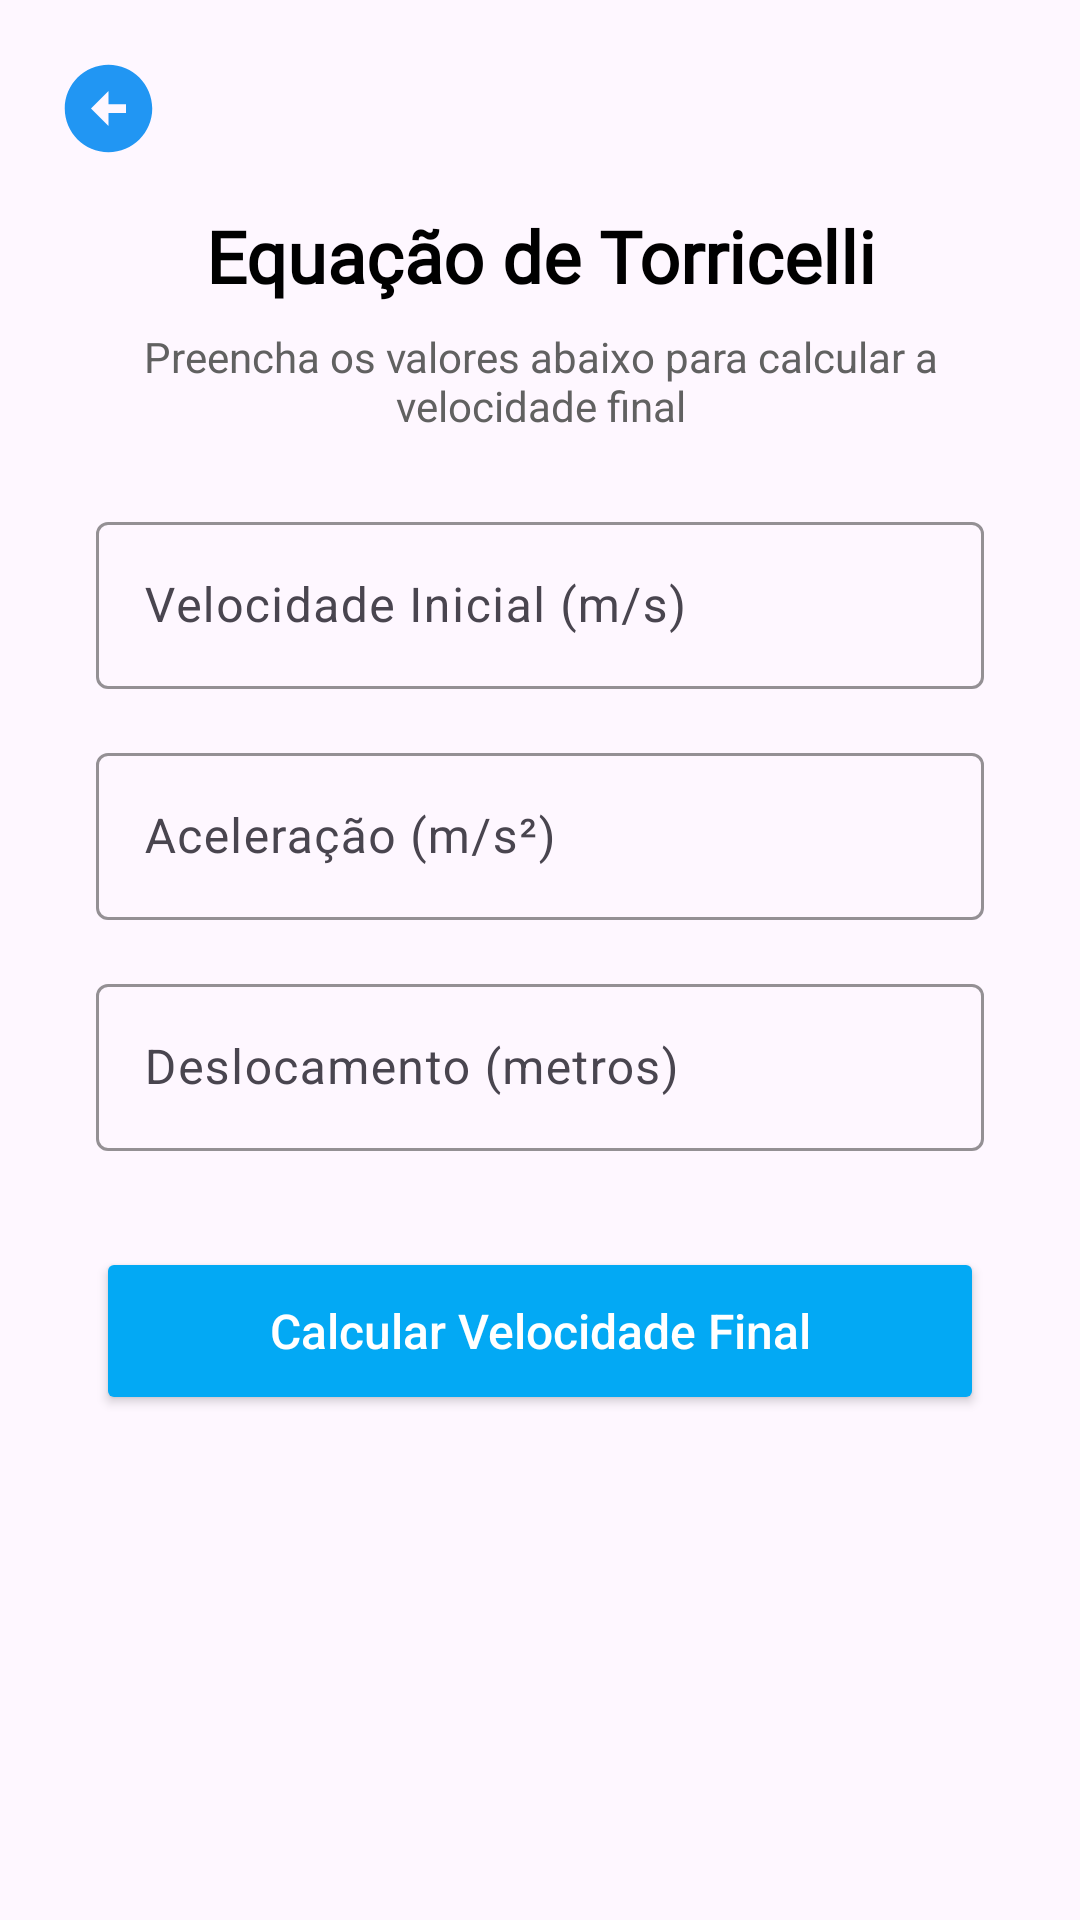

Named icons in this screenshot (1080x1920) and their centers, (x,y):
Voltar: (108,108)
